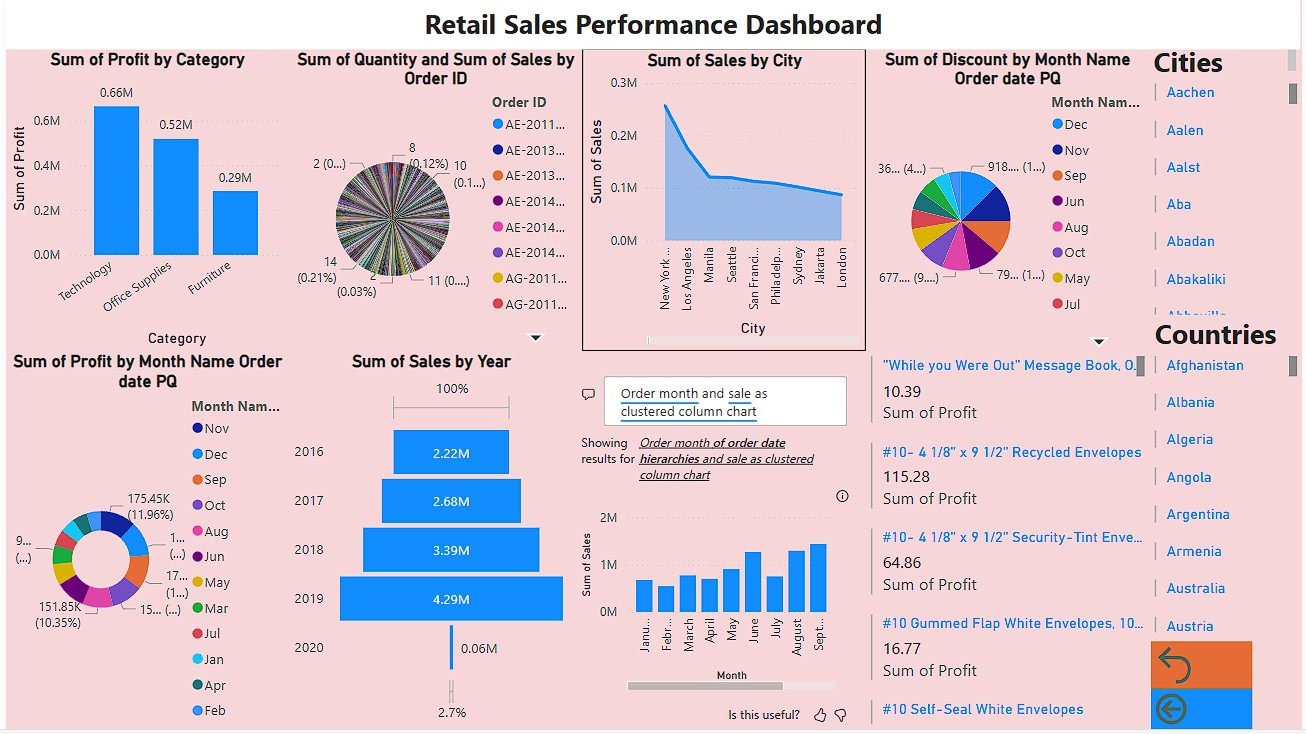

The dashboard page shown, as its layout file describes it:
{"tool":"powerbi","page":{"name":"RSP DashBoard","canvas":[1280,720],"ordinal":0},"visuals":[{"type":"columnChart","fields":{"Category":["Orders.Category"],"Y":["Sum(Orders.Profit)"]},"box":[0,48.5,279.9,298.6],"z":0},{"type":"pieChart","fields":{"Series":["Orders.Order ID"],"Y":["Sum(Orders.Quantity)"]},"box":[278.6,48.5,291.1,298.6],"z":1000},{"type":"donutChart","fields":{"Category":["Orders.Month Name Order date PQ"],"Y":["Sum(Orders.Profit)"]},"box":[0,347.1,279.9,373.2],"z":2000},{"type":"funnel","fields":{"Y":["Sum(Orders.Sales)"],"Category":["Orders.Ship Date.Variation.Date Hierarchy.Year","Orders.Ship Date.Variation.Date Hierarchy.Quarter","Orders.Ship Date.Variation.Date Hierarchy.Month","Orders.Ship Date.Variation.Date Hierarchy.Day"]},"box":[279.9,347.1,279.9,373.2],"z":3000},{"type":"areaChart","fields":{"Category":["Orders.City"],"Y":["Sum(Orders.Sales)"]},"box":[569.7,48.5,279.9,298.6],"z":4000},{"type":"pieChart","fields":{"Category":["Orders.Month Name Order date PQ"],"Y":["Sum(Orders.Discount)"]},"box":[849.6,48.5,279.9,302.3],"z":5000},{"type":"qnaVisual","box":[559.8,347.1,279.9,373.2],"z":6000},{"type":"multiRowCard","fields":{"Values":["Orders.Country"]},"box":[1129.5,347.1,150.5,282.4],"z":7000},{"type":"multiRowCard","fields":{"Values":["Orders.City"]},"box":[1129.5,78.4,150.5,237.6],"z":8000},{"type":"textbox","box":[1128.3,37.3,150.5,41.1],"z":9000},{"type":"textbox","box":[1129.5,306,150.5,46],"z":10000},{"type":"actionButton","box":[1131.4,632.9,100,47.1],"z":11000},{"type":"actionButton","box":[1131.4,680,100,40],"z":12000},{"type":"multiRowCard","fields":{"Values":["Orders.Product Name","Sum(Orders.Profit)"]},"box":[849.6,347.1,279.9,373.2],"z":13000},{"type":"textbox","box":[0,0,1278.8,48.5],"z":14000}]}

Visuals, with their boxes in screenshot pixels (x1, y1, x2, y2), scaled from the page's 1280x720 canvas onto the 1306x734 screenshot:
columnChart - Orders.Category x Sum(Orders.Profit): x1=0 y1=49 x2=286 y2=354
pieChart - Orders.Order ID x Sum(Orders.Quantity): x1=284 y1=49 x2=581 y2=354
donutChart - Orders.Month Name Order date PQ x Sum(Orders.Profit): x1=0 y1=354 x2=286 y2=733
funnel - Sum(Orders.Sales) x Orders.Ship Date.Variation.Date Hierarchy.Year: x1=286 y1=354 x2=571 y2=733
areaChart - Orders.City x Sum(Orders.Sales): x1=581 y1=49 x2=867 y2=354
pieChart - Orders.Month Name Order date PQ x Sum(Orders.Discount): x1=867 y1=49 x2=1152 y2=358
qnaVisual: x1=571 y1=354 x2=857 y2=733
multiRowCard - Orders.Country: x1=1152 y1=354 x2=1305 y2=642
multiRowCard - Orders.City: x1=1152 y1=80 x2=1305 y2=322
textbox: x1=1151 y1=38 x2=1305 y2=80
textbox: x1=1152 y1=312 x2=1305 y2=359
actionButton: x1=1154 y1=645 x2=1256 y2=693
actionButton: x1=1154 y1=693 x2=1256 y2=733
multiRowCard - Orders.Product Name x Sum(Orders.Profit): x1=867 y1=354 x2=1152 y2=733
textbox: x1=0 y1=0 x2=1305 y2=49
